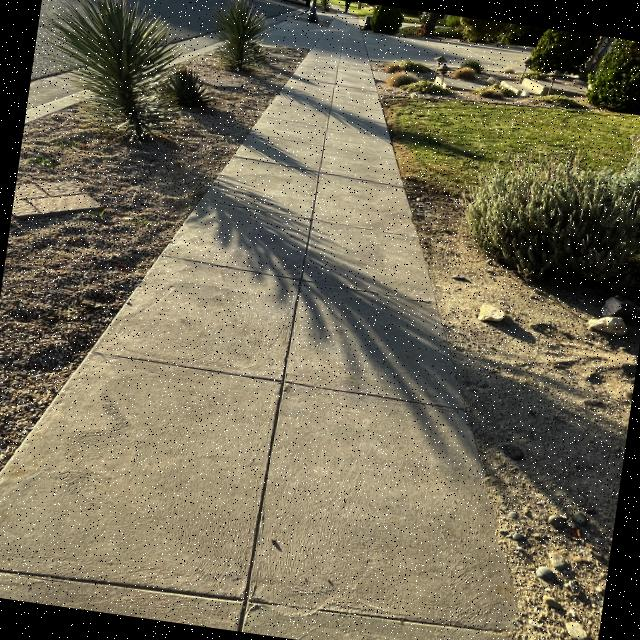walkway: (0, 479, 533, 640), (36, 408, 493, 579), (85, 335, 462, 509), (150, 254, 440, 413), (201, 178, 409, 323), (249, 122, 406, 206), (286, 78, 390, 150), (322, 24, 377, 92)
walkway-edge: (33, 190, 169, 476), (168, 70, 264, 276), (427, 370, 540, 524), (462, 501, 582, 640), (408, 283, 504, 430), (390, 195, 480, 314), (364, 113, 434, 219), (282, 44, 318, 104)
